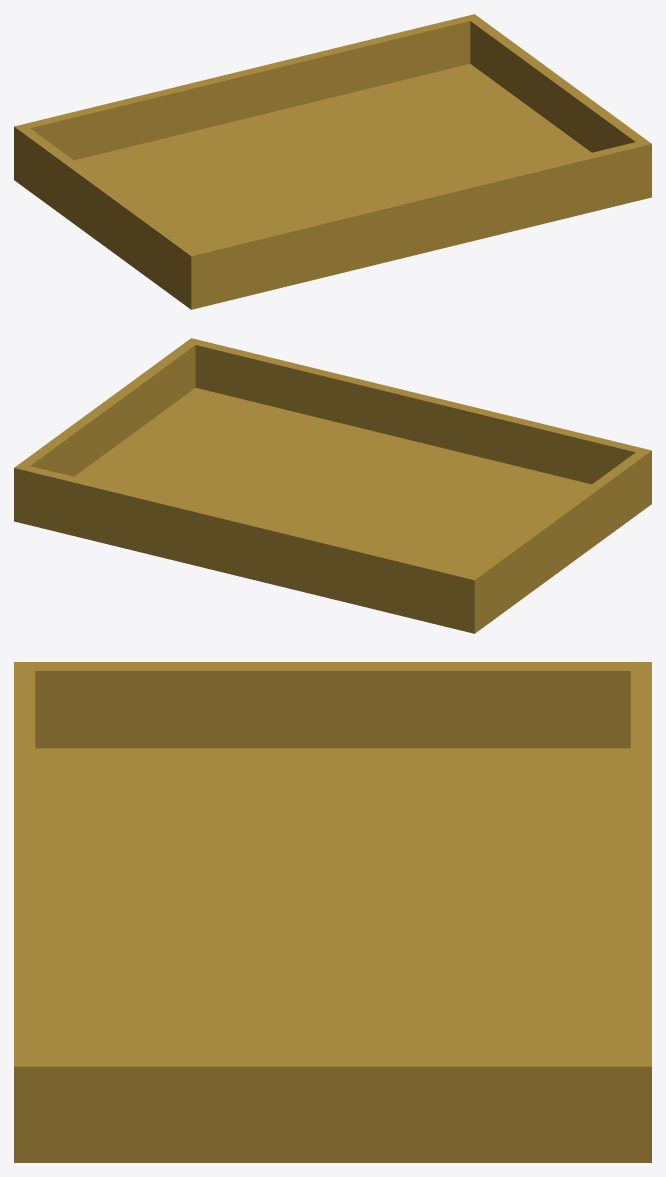
Rendered from ATL-TRY-std.glb.
3 renders of one model, top to bottom at view 1: azimuth 30°, elevation 25°; view 2: azimuth 150°, elevation 25°; view 3: azimuth 270°, elevation 25°, orthographic. The views are drawn at different scales.
Visible parts, largest first — view 1: ATL-TRY-std; view 2: ATL-TRY-std; view 3: ATL-TRY-std.
Part boxes in pixels (x1,y1,x2,y2): ATL-TRY-std: [14, 14, 651, 309]; ATL-TRY-std: [14, 338, 651, 633]; ATL-TRY-std: [14, 662, 651, 1162].
Size of the model in its own units: 0.45 by 0.05 by 0.3.
